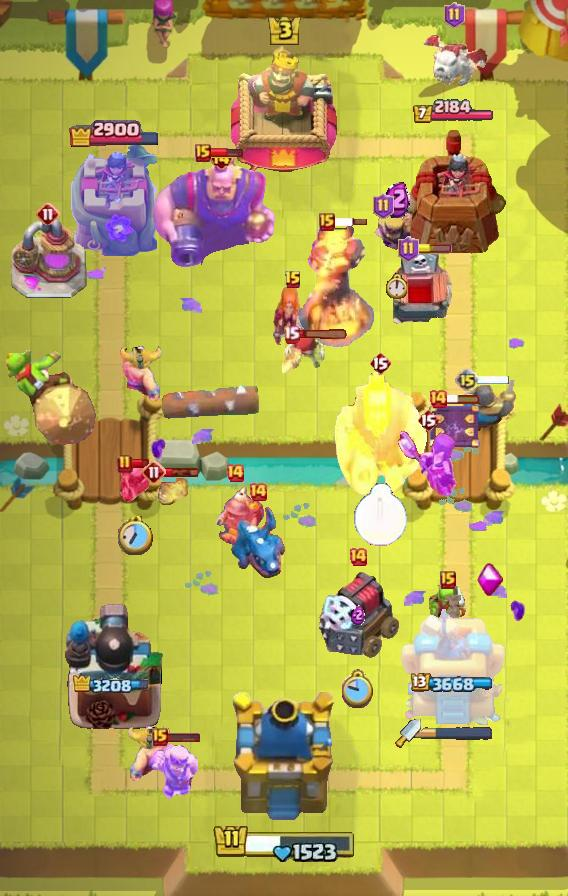arrows: (148, 742, 198, 801), (372, 204, 420, 251)
bandit: (204, 483, 266, 555)
bar: (401, 601, 505, 731)
battle-ram: (117, 461, 153, 505)
clock: (212, 820, 356, 862)
electro-dragon: (298, 222, 376, 350)
electro-spirit: (383, 180, 409, 218), (351, 603, 365, 625)
elixir: (352, 483, 407, 547), (119, 516, 154, 555), (342, 668, 375, 707), (385, 273, 407, 299)
elixir-golem-mid: (385, 247, 455, 333)
emote: (297, 329, 349, 340), (445, 393, 481, 405), (165, 731, 201, 743), (208, 147, 243, 159), (165, 467, 200, 478), (332, 217, 368, 227), (416, 244, 452, 254), (477, 375, 510, 385), (130, 458, 150, 469)
firecracker: (454, 380, 518, 435)
fisherman: (443, 595, 466, 645)
giant-skeleton: (332, 370, 428, 498)
goblin-giant: (120, 345, 164, 401), (126, 725, 170, 781)
golem: (315, 569, 401, 659)
graveyard: (229, 506, 287, 580)
hog-rider: (269, 286, 317, 348)
ice-golem: (282, 331, 328, 373)
ice-spirit-evolution: (155, 476, 191, 508)
ice-spirit-evolution-symbol: (427, 401, 481, 451)
king-tower: (227, 692, 341, 826), (231, 45, 337, 181)
king-tower-bar: (421, 726, 493, 740)
lightning: (149, 158, 277, 272)
mini-pekka: (417, 33, 491, 89)
minion: (161, 383, 261, 421)
pekka: (9, 218, 87, 300)
queen-tower: (398, 128, 508, 256), (71, 144, 157, 255)
rascal-boy: (397, 428, 459, 500)
selected: (67, 117, 160, 146), (413, 99, 496, 125), (411, 673, 495, 695), (73, 675, 155, 697)
skeleton-king-skill: (477, 563, 503, 597)
text: (36, 202, 60, 226), (455, 368, 479, 392), (142, 460, 166, 484), (444, 2, 465, 28), (373, 193, 394, 219), (398, 236, 419, 262), (369, 351, 391, 375), (417, 408, 439, 432), (428, 389, 448, 409), (225, 463, 245, 483), (248, 482, 268, 502), (348, 547, 368, 567), (284, 270, 302, 290), (117, 454, 133, 474), (284, 325, 301, 343), (195, 144, 211, 162), (319, 213, 335, 231), (440, 571, 456, 589), (152, 728, 168, 746)
tower-bar: (64, 601, 164, 731)
x-bow: (1, 348, 99, 448)
zap: (427, 585, 469, 627)
